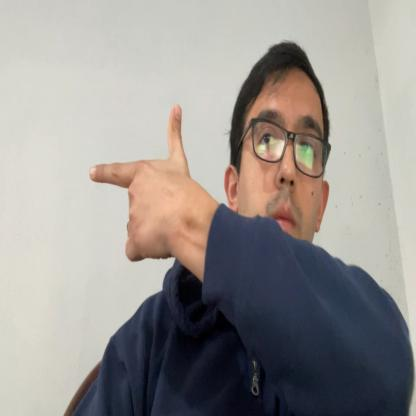G: (89, 102, 189, 262)
